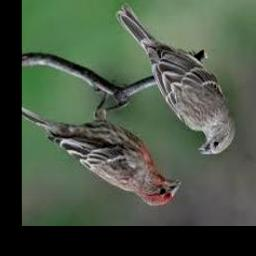Sparrow: (22, 92, 180, 206), (116, 4, 235, 155)
